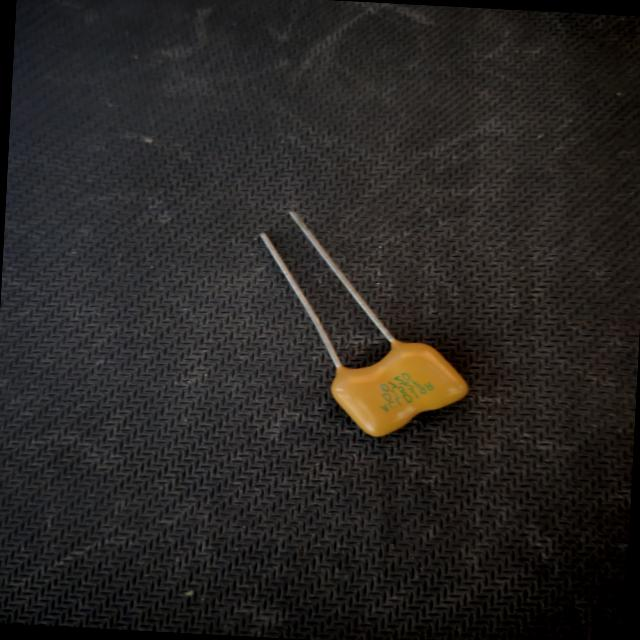resistor: (235, 197, 488, 448)
